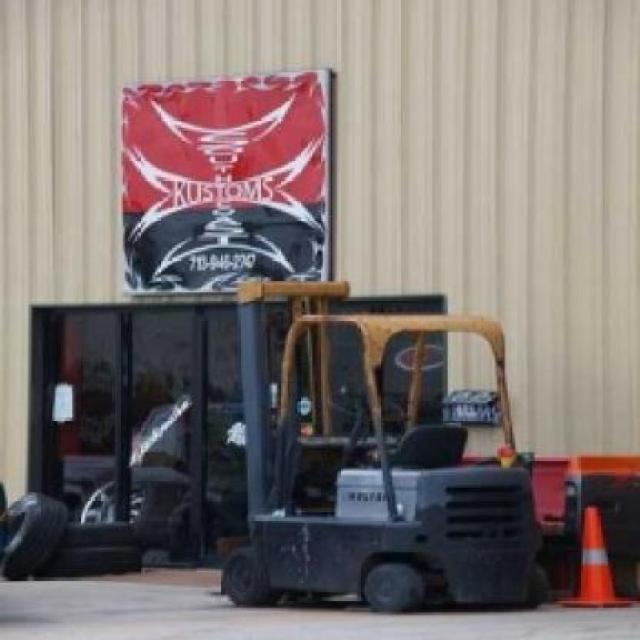forklift: (220, 262, 553, 618)
